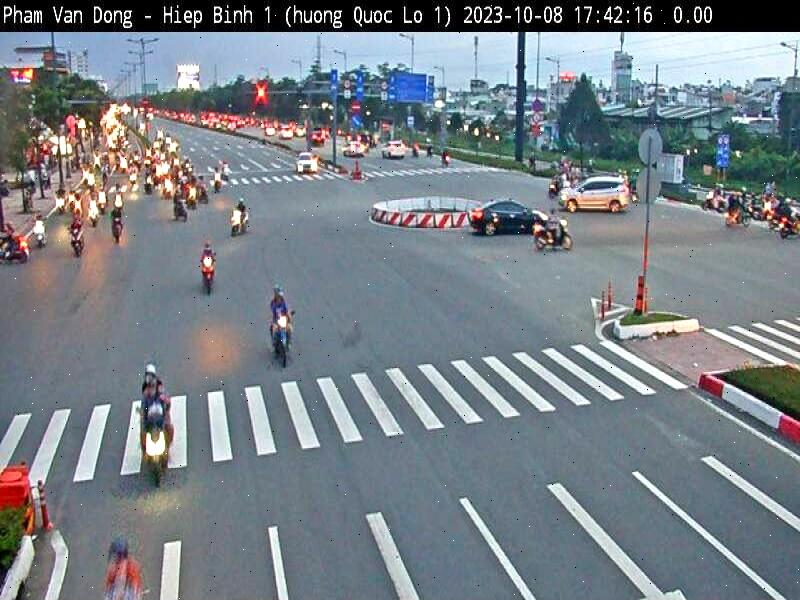car: (564, 178, 635, 216), (471, 202, 535, 237)
